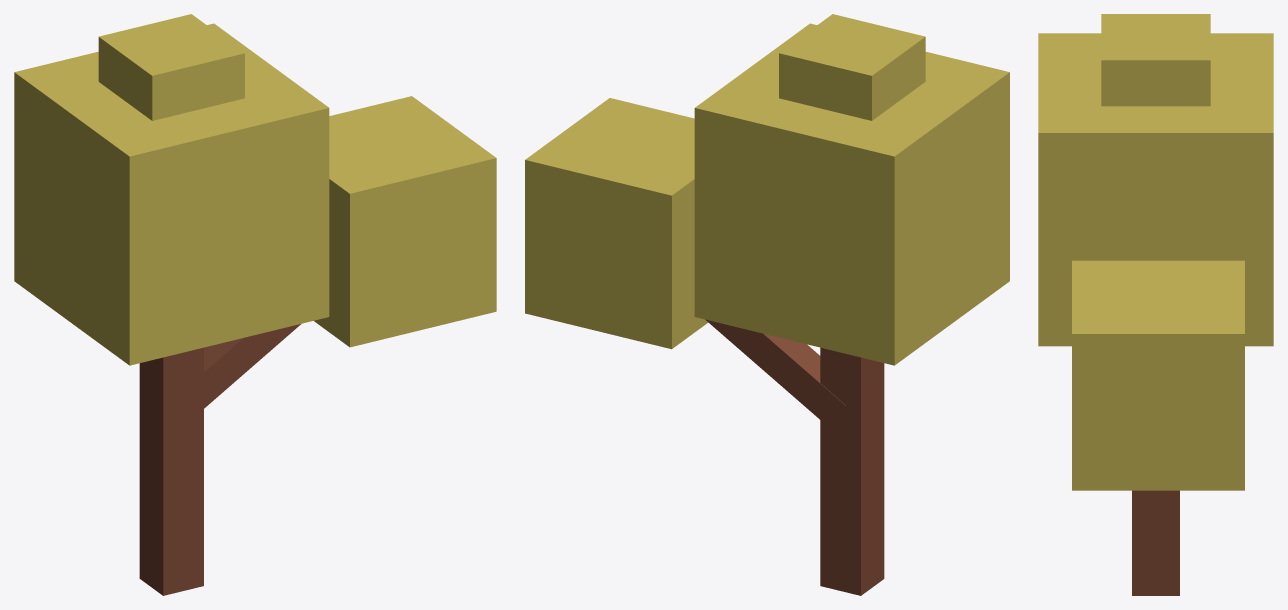
Rendered from Tree_48_autumn_vc.fbx.
3 renders of one model, left to right at view 1: azimuth 30°, elevation 25°; view 2: azimuth 150°, elevation 25°; view 3: azimuth 270°, elevation 25°, orthographic. The views are drawn at different scales.
Parts seen in each view (by area): view 1: Tree_48_autumn_vc; view 2: Tree_48_autumn_vc; view 3: Tree_48_autumn_vc.
Part boxes in pixels (x1,y1,x2,y2): Tree_48_autumn_vc: (14,14,496,595); Tree_48_autumn_vc: (525,14,1009,595); Tree_48_autumn_vc: (1038,14,1273,595).
Size of the model in its own units: 140 by 187 by 72.7.
